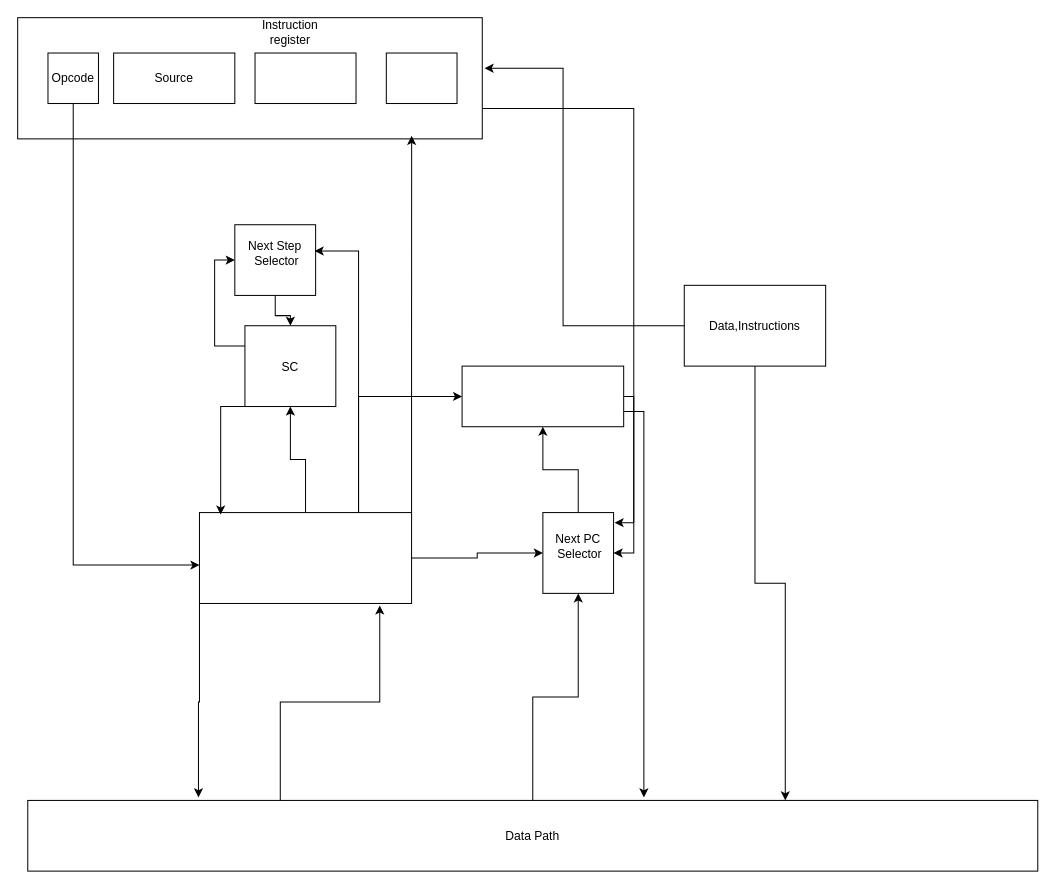
The diagram is 1055 pixels wide and 889 high, and some of its shapes have lost their labels. The box of each missing label's shape, as (x1, y1, x2, y2) in pixels:
Dest/None: (385, 52, 457, 104)
Instruction Decoder: (198, 512, 412, 603)
Mode/Ext: (254, 52, 356, 104)
Program Counter: (461, 365, 624, 427)
